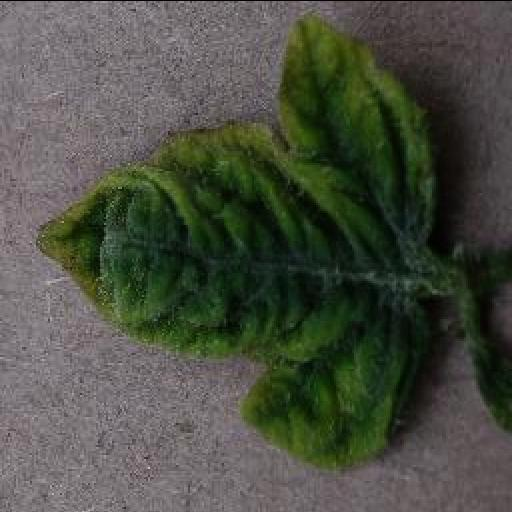disease_tomato: (37, 14, 439, 472)
